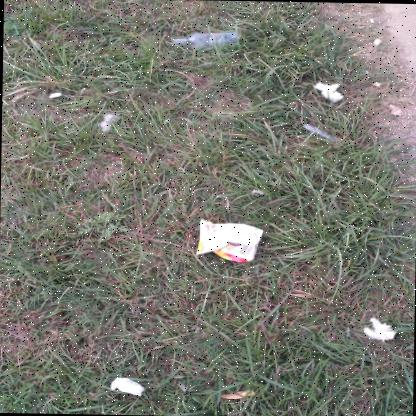Cigarette: (370, 18, 374, 23)
Crisp packet: (195, 218, 263, 262)
Glass bottle: (173, 32, 236, 49)
Plastic film: (110, 377, 144, 396), (302, 123, 335, 141), (176, 381, 188, 393)
Unlabeled litter: (364, 318, 397, 339), (313, 81, 343, 102), (49, 93, 60, 97)
